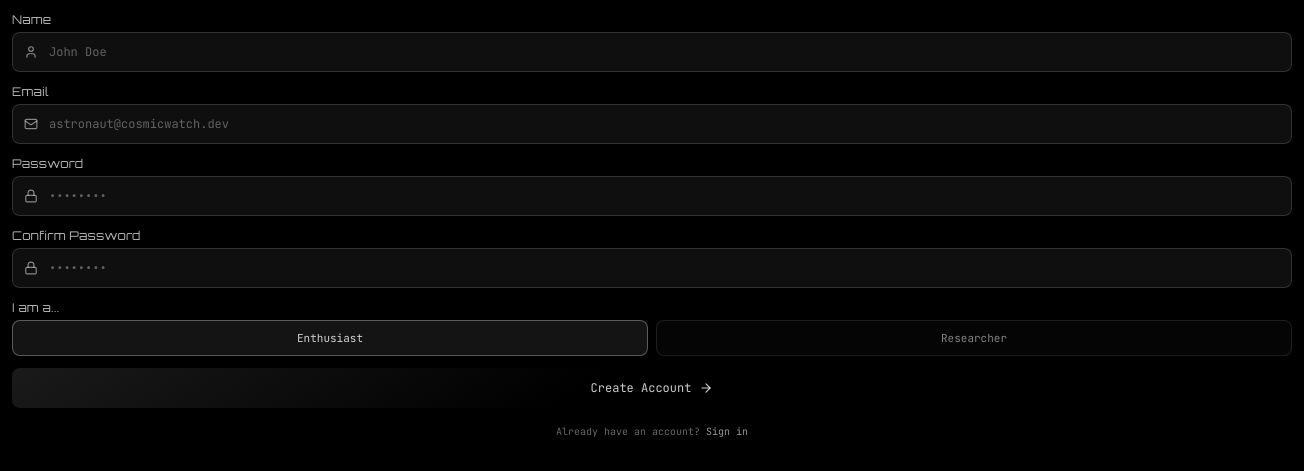
Test: SignupForm › validates password complexity
Type "User" into the field labelled "Name" at x=652, y=52, box [12, 32, 1292, 72]
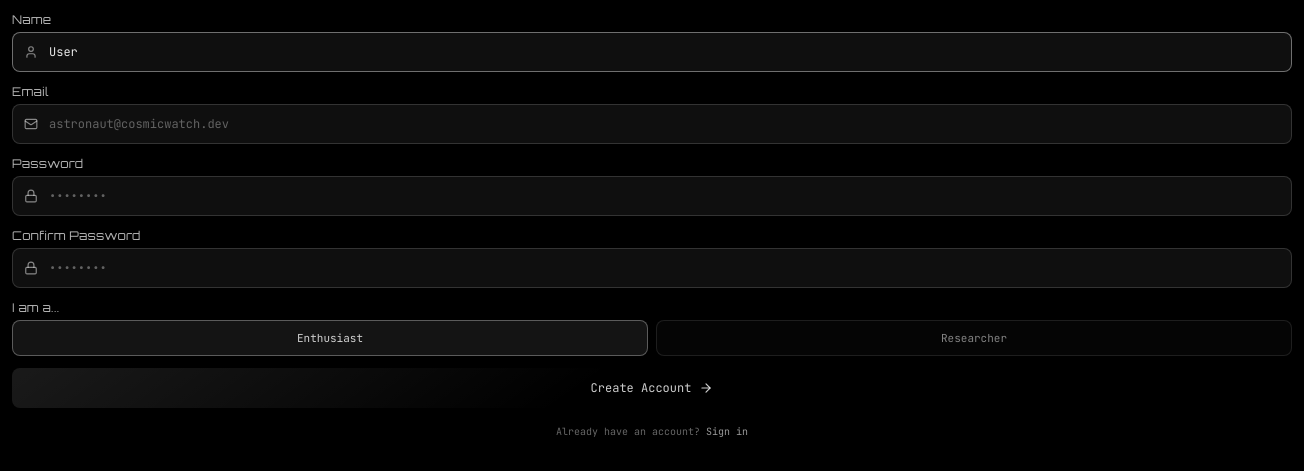
Type "email@test.com" into the field labelled "Email" at x=652, y=124, box [12, 104, 1292, 144]
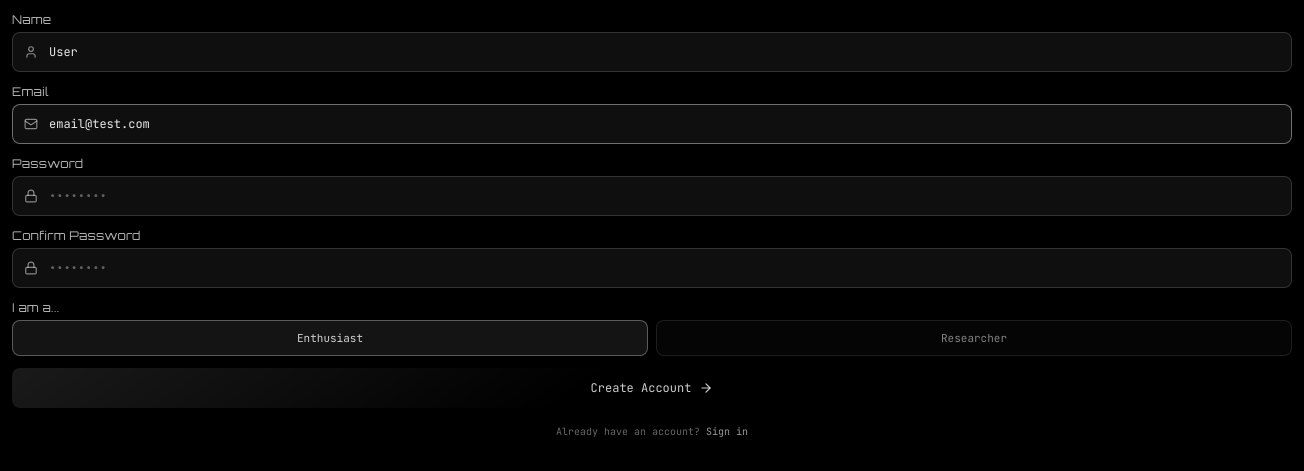
Type "weak" into the password field labelled "Password" at x=652, y=196, box [12, 176, 1292, 216]
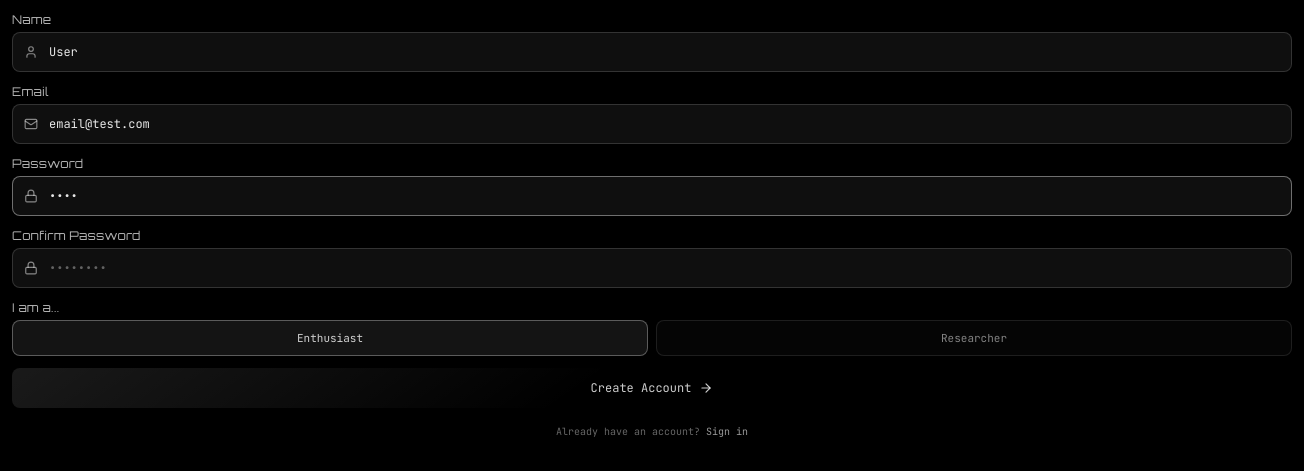
Type "weak" into the password field labelled "Confirm Password" at x=652, y=268, box [12, 248, 1292, 288]
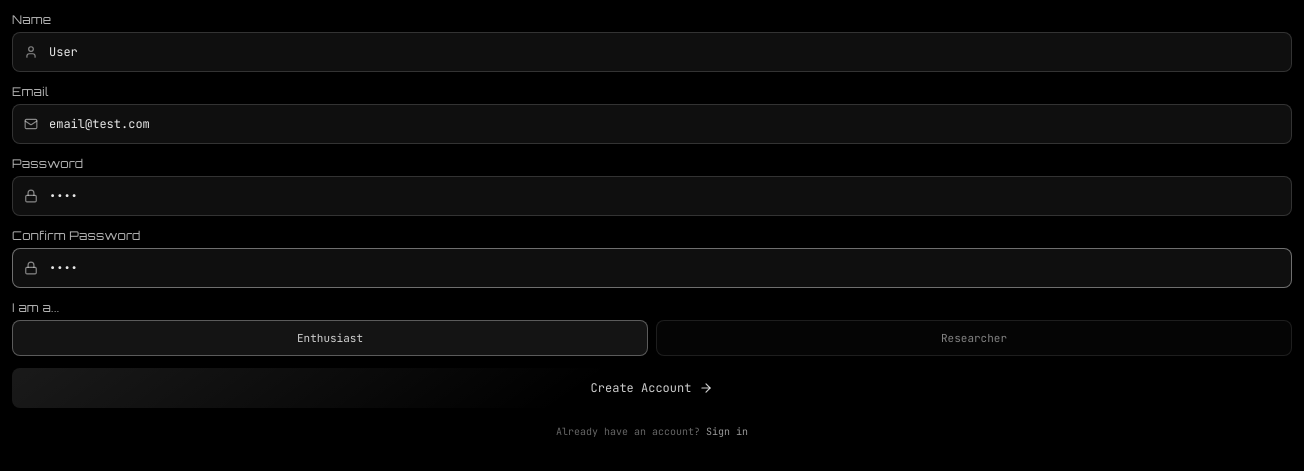
Click the button "Create Account" at x=652, y=388, box [12, 368, 1292, 408]
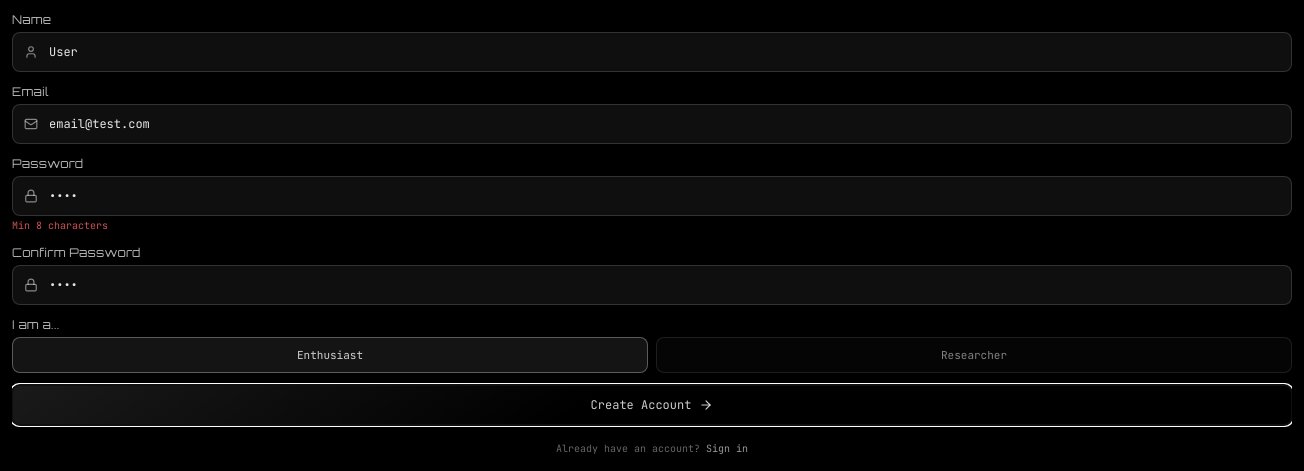
Expected: the text "Min 8 characters" is shown, [12, 219, 108, 232]
